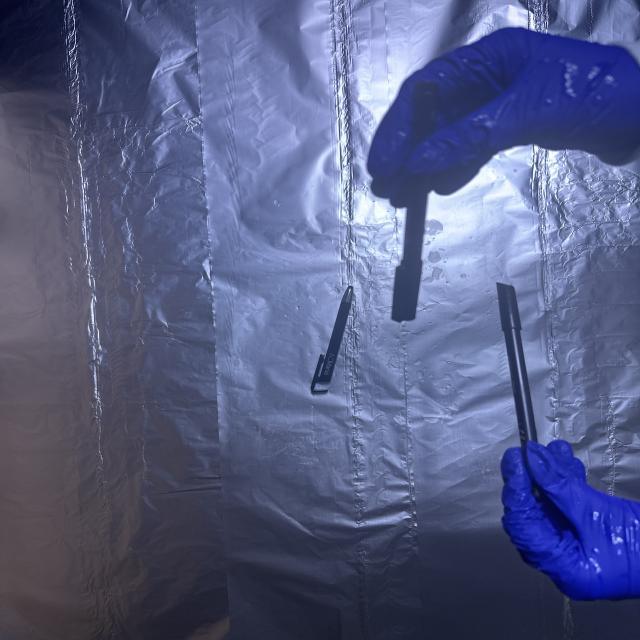gloves_contaminated: (368, 28, 640, 206), (501, 440, 640, 600)
